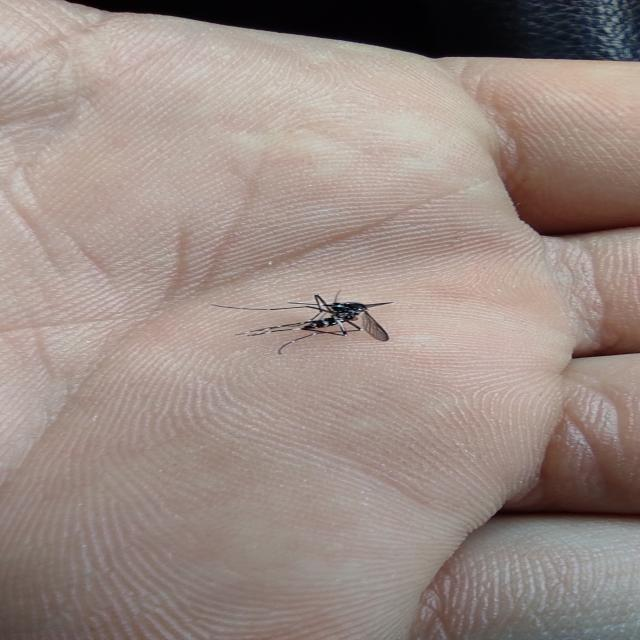albopictus: (210, 286, 398, 358)
